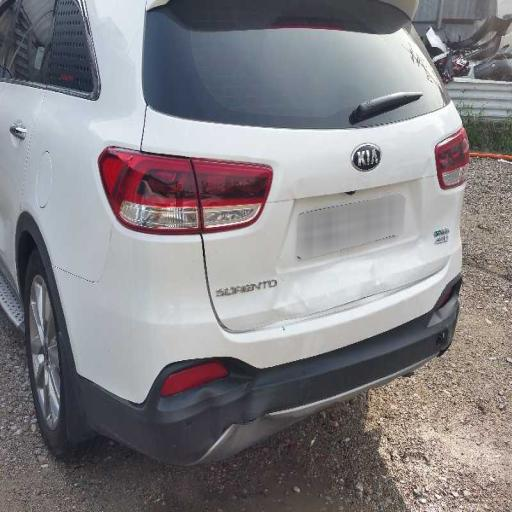dent: (123, 319, 299, 479)
